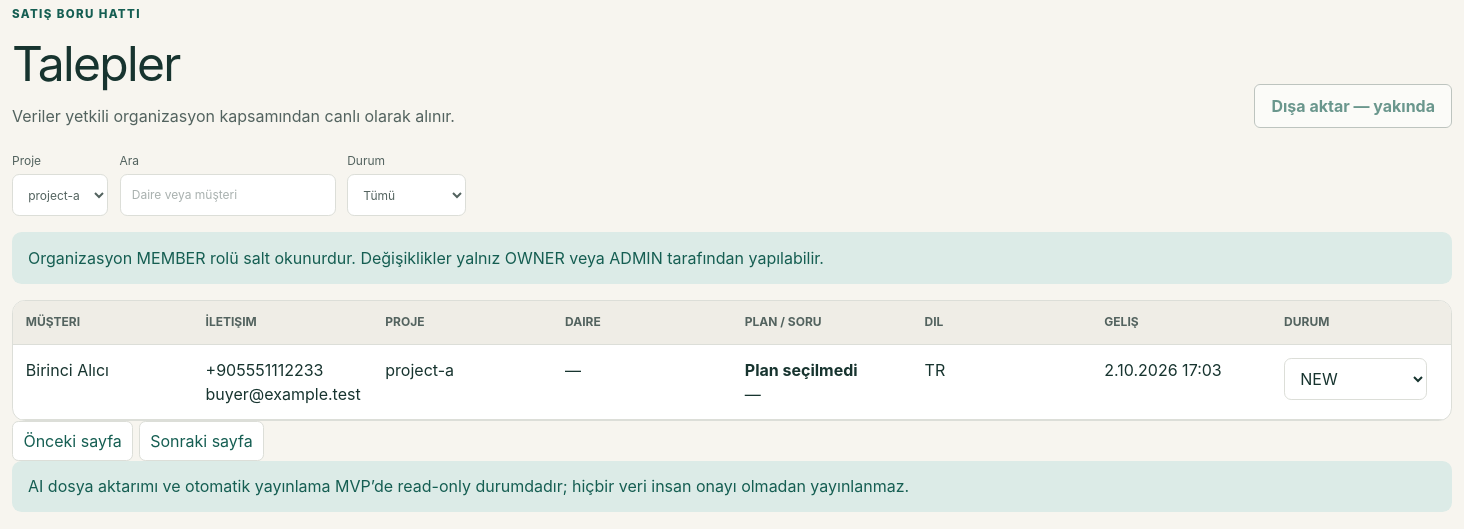
Test: developer lead follow-up › exposes contact actions and reaches later lead pages
Click the button "Sonraki sayfa": (201, 441) [139,421,264,461]
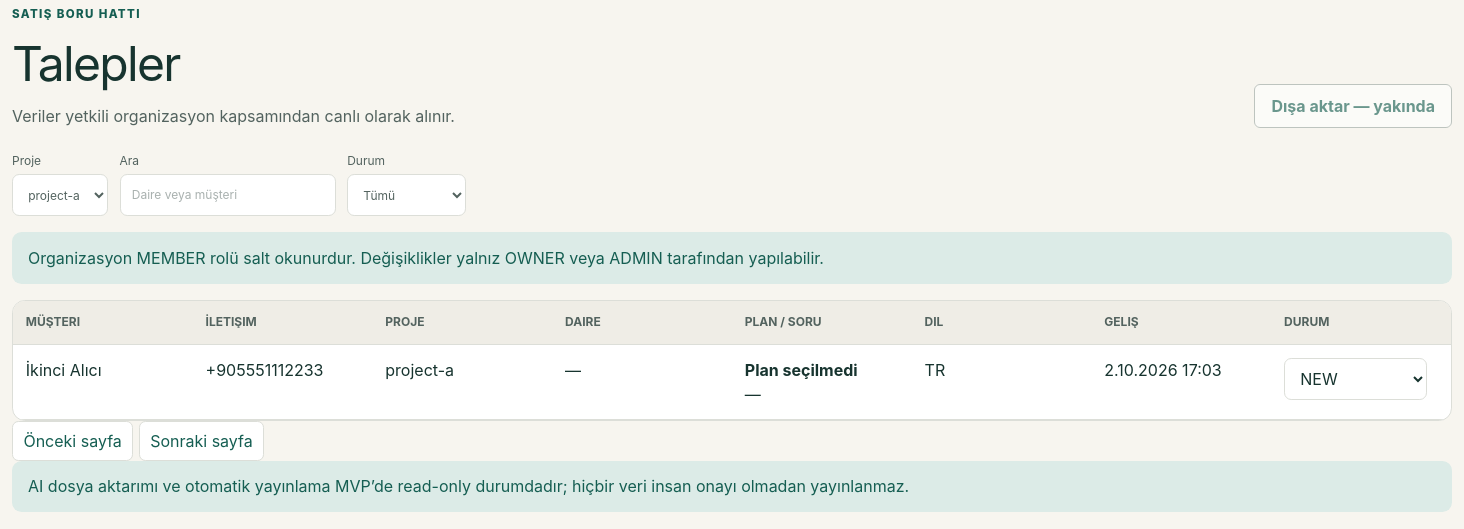
Expected: the text "İkinci Alıcı" is shown, [13,345,193,420]
Expected: the text "Birinci Alıcı" is gone
Click the button "Önceki sayfa": (73, 441) [12,421,133,461]
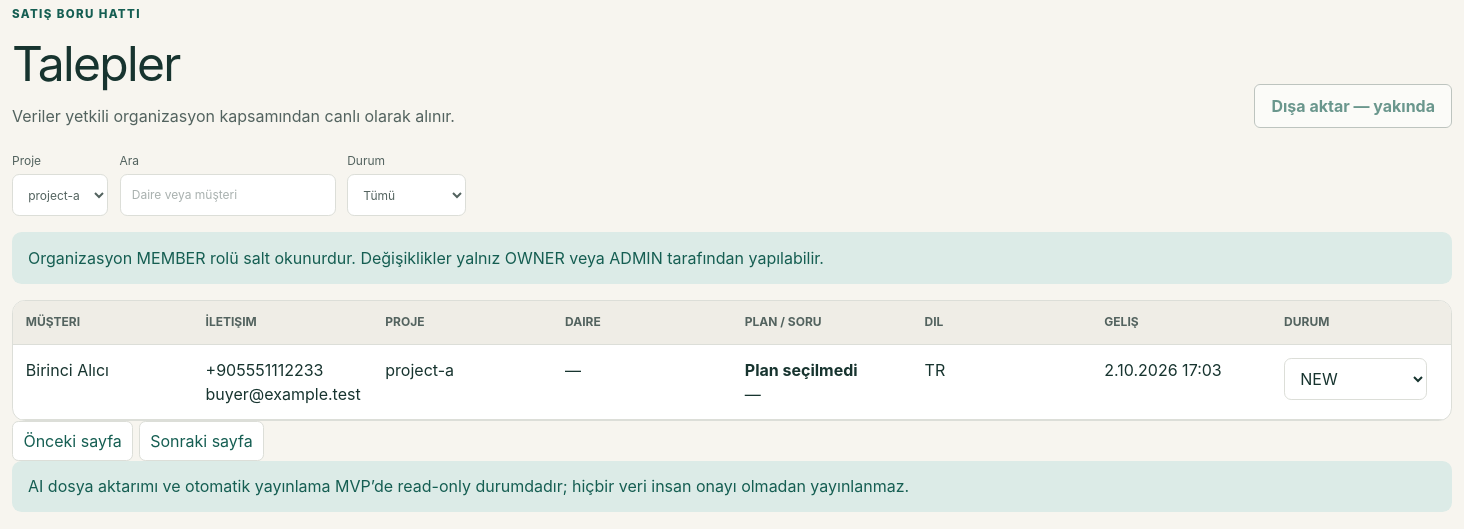
Expected: the text "Birinci Alıcı" is shown, [13,345,193,420]
